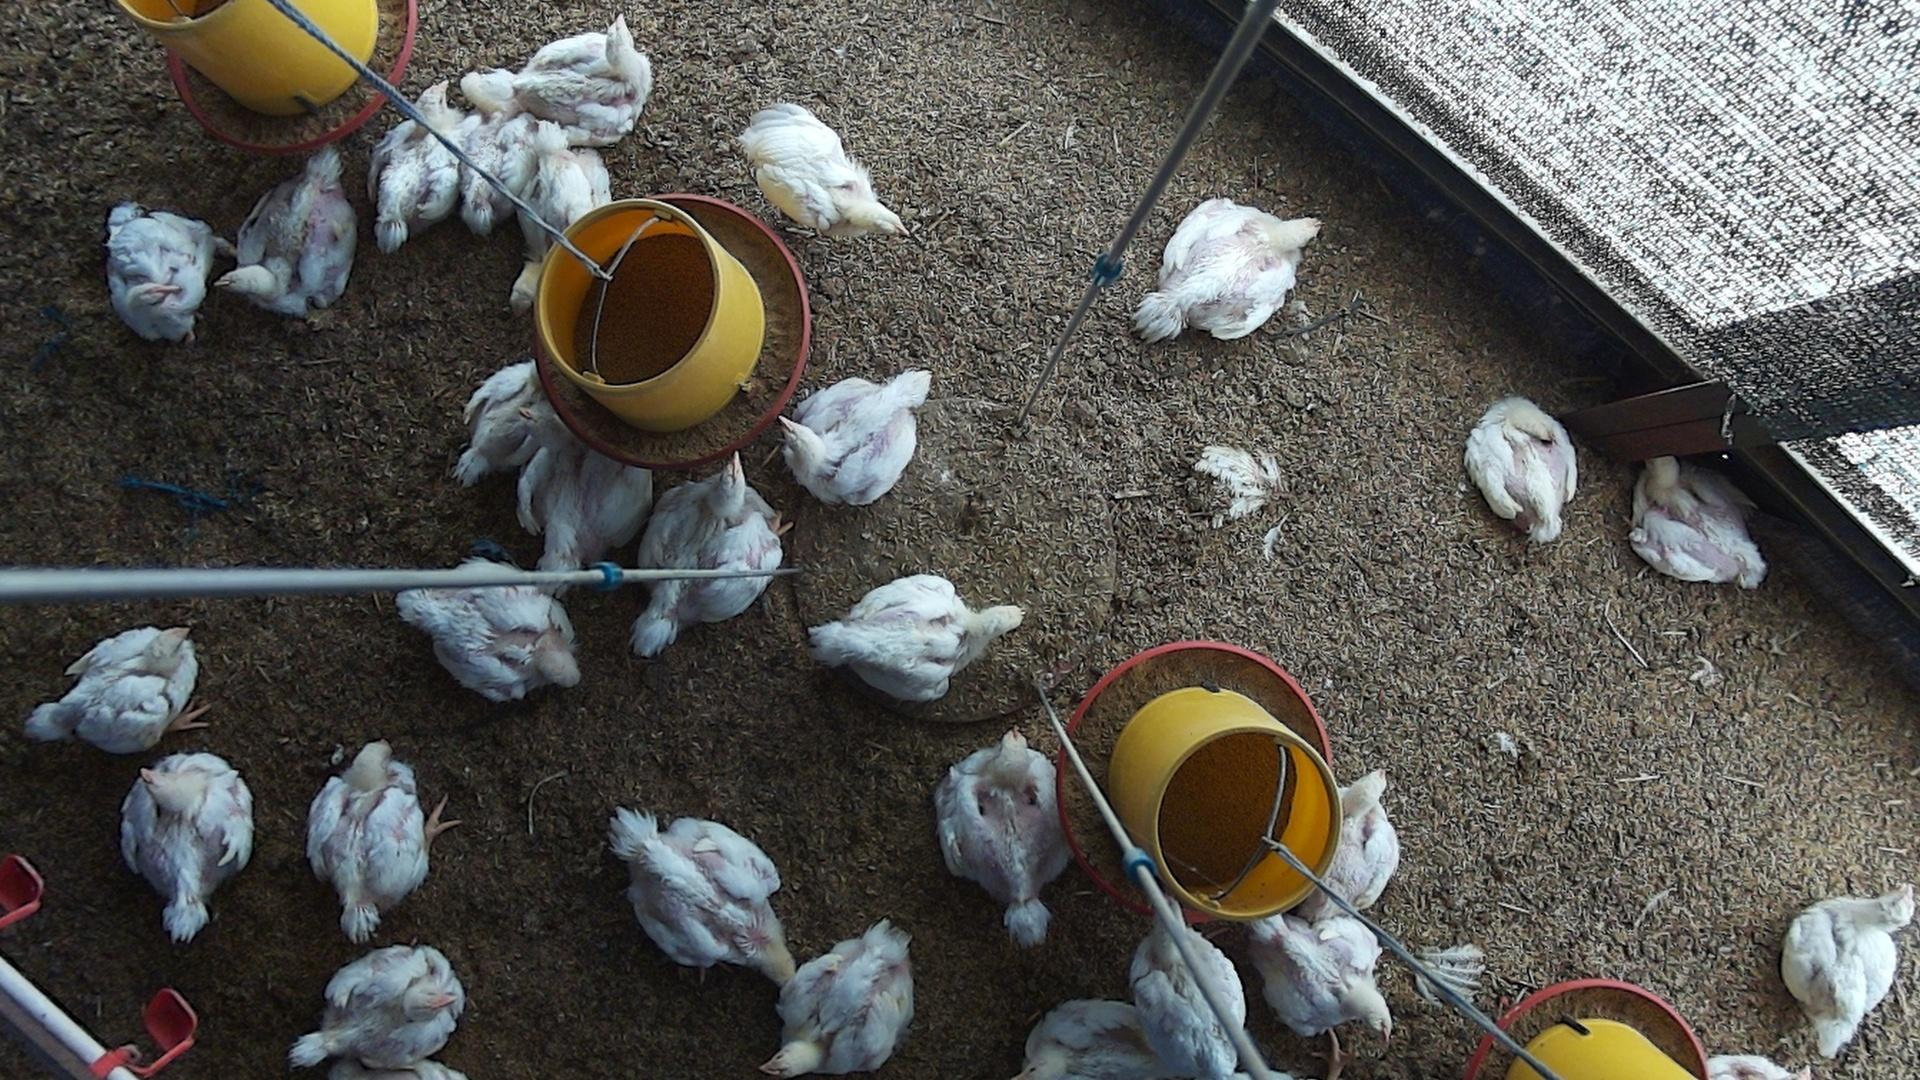ayam_broiler: (609, 810, 794, 984), (307, 738, 459, 943), (633, 455, 783, 658), (808, 575, 1022, 700), (936, 731, 1064, 938), (1138, 198, 1321, 342), (397, 563, 580, 700), (121, 752, 253, 940), (216, 146, 357, 319), (1782, 878, 1912, 1062), (28, 626, 210, 753), (769, 922, 914, 1077), (290, 944, 465, 1068), (741, 102, 899, 231), (508, 120, 615, 310), (1133, 909, 1249, 1079), (782, 371, 928, 505), (498, 18, 651, 145), (1630, 455, 1766, 587), (518, 438, 655, 566), (1253, 913, 1390, 1035), (1466, 396, 1578, 542), (108, 206, 224, 339), (371, 83, 460, 248), (458, 71, 538, 240), (455, 359, 546, 484), (1324, 770, 1398, 910), (1022, 1000, 1151, 1079)
